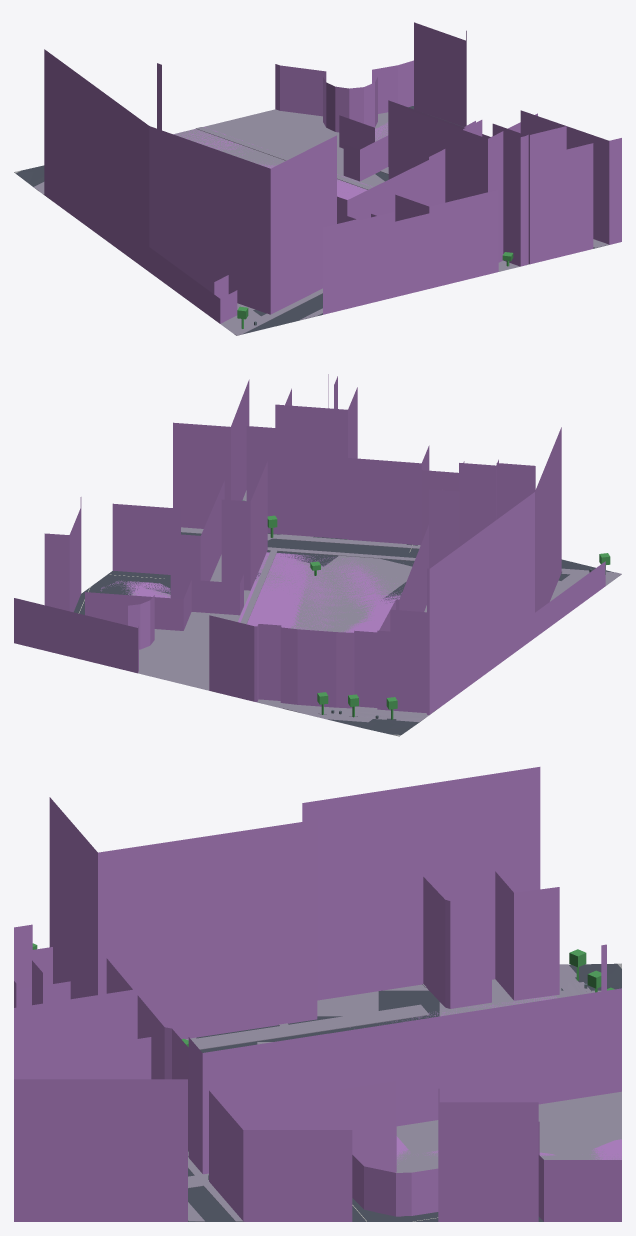
3 renders of one model, top to bottom at view 1: azimuth 30°, elevation 25°; view 2: azimuth 150°, elevation 25°; view 3: azimuth 270°, elevation 25°, orthographic. The views are drawn at different scales.
Visible parts, largest first — view 1: compiled-chunk; view 2: compiled-chunk; view 3: compiled-chunk.
Boxes of the visible parts, x1,y1,x2,y2 form: compiled-chunk: (14,22,621,335); compiled-chunk: (14,374,621,736); compiled-chunk: (14,767,621,1221).
Size of the model in its own units: 120 by 43.5 by 120.
